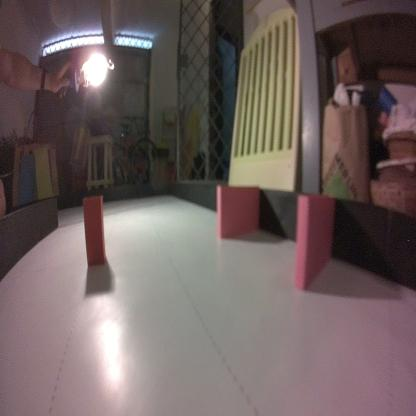magenta: (292, 190, 337, 297), (214, 180, 262, 241)
red: (82, 193, 107, 266)
